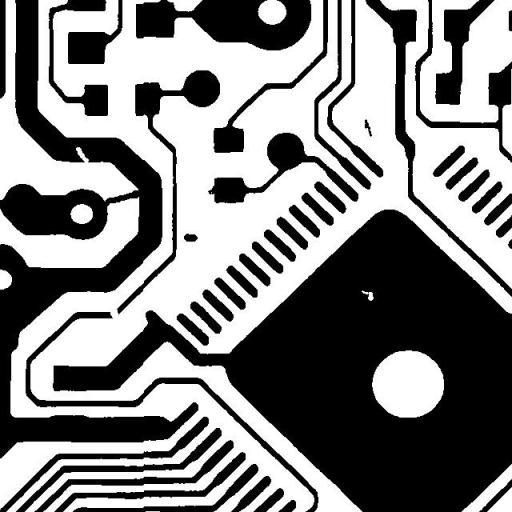copper: (357, 111, 379, 144), (176, 226, 205, 248)
mousebite: (68, 139, 96, 170)
open: (102, 300, 126, 326)
pin-hole: (354, 282, 380, 308)
short: (96, 182, 149, 214)
spur: (200, 178, 224, 202)
